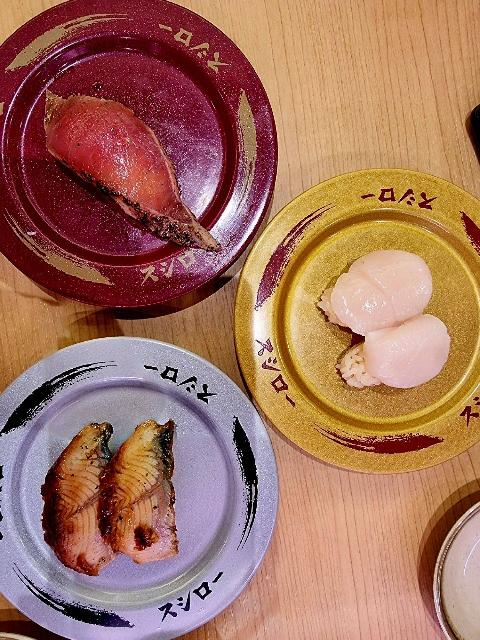jangold: (237, 389, 480, 477), (244, 195, 329, 389), (324, 178, 480, 257), (453, 250, 480, 392)
janwhite: (176, 347, 276, 640), (0, 341, 207, 417), (0, 574, 190, 640), (0, 409, 49, 588)
